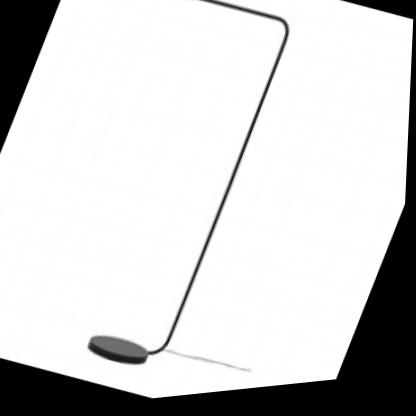Lamp: (2, 0, 312, 412)
